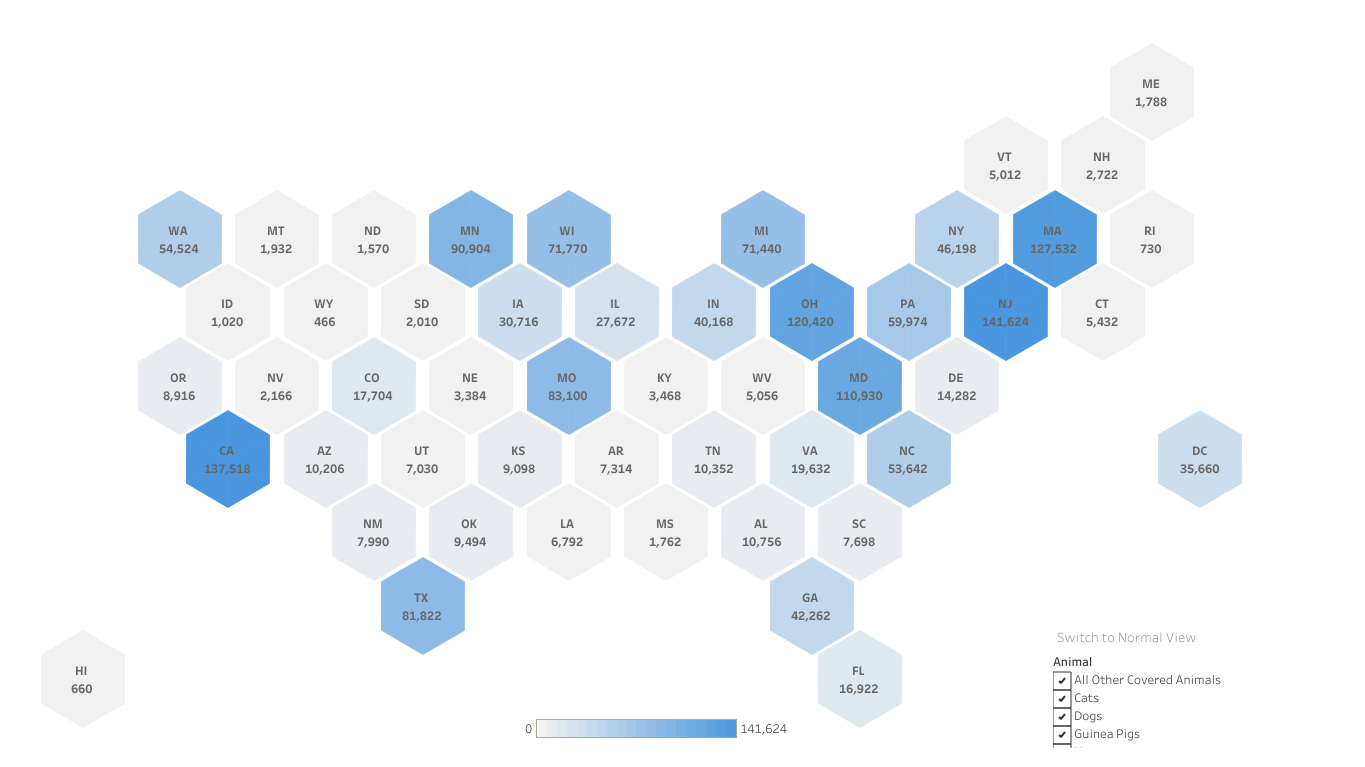

The dashboard page shown, as its layout file describes it:
{"tool":"tableau","page":{"name":"Dashboard","canvas":[1366,768],"ordinal":0},"visuals":[{"type":"dashboard-object","box":[1036,623,181,26]},{"type":"filter","title":"Map","param":"[federated.0g1j4eu038myz01ectu2r0jelzqv].[none:Pivot Field Names:nk]","box":[1053,651,203,97]},{"type":"legend","title":"Map","param":"[federated.0g1j4eu038myz01ectu2r0jelzqv].[sum:Pivot Field Values:qk]","box":[517,711,279,32]}]}

Visuals, with their boxes in screenshot pixels (x1, y1, x2, y2), scaled from the page's 1366x768 canvas onto the 1365x767 screenshot:
dashboard-object: (left=1035, top=622, right=1216, bottom=648)
"Map" filter: (left=1052, top=650, right=1255, bottom=747)
"Map" legend: (left=517, top=710, right=795, bottom=742)
